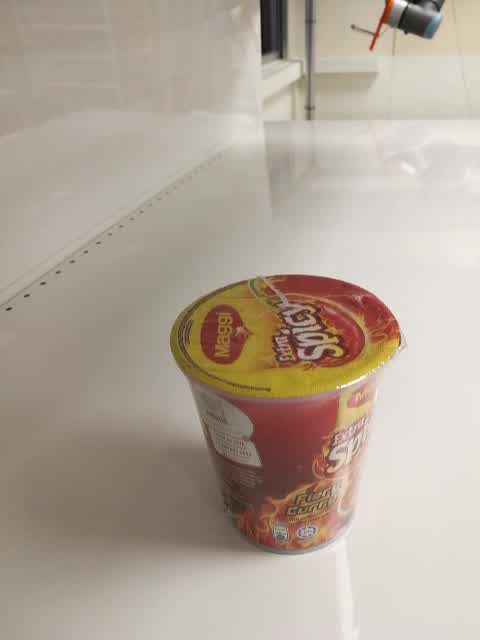maggi: (167, 274, 407, 556)
